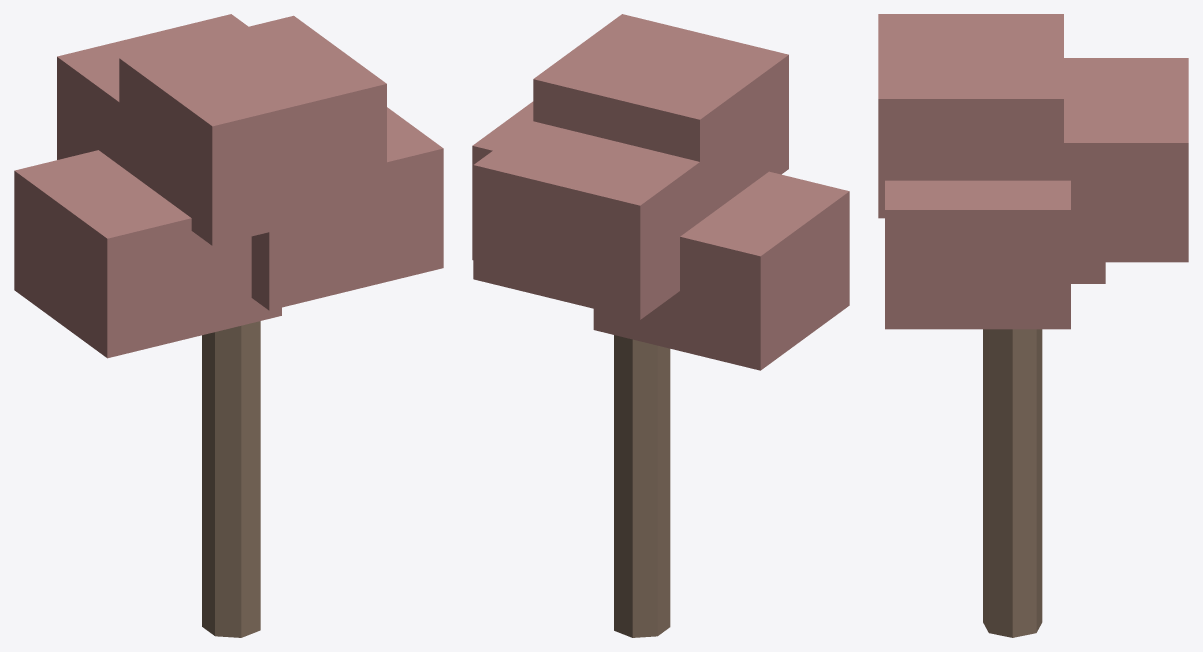
The model's file is arvore_folhas_vermelhas.glb.
3 renders of one model, left to right at view 1: azimuth 30°, elevation 25°; view 2: azimuth 150°, elevation 25°; view 3: azimuth 270°, elevation 25°, orthographic. The views are drawn at different scales.
Parts seen in each view (by area): view 1: part_004, part_001, part_002, part_000, part_003; view 2: part_003, part_004, part_001, part_000, part_002; view 3: part_004, part_002, part_003, part_000, part_001.
Boxes of the visible parts, <box> form: part_004: <box>119,15,386,245</box>; part_001: <box>14,150,281,358</box>; part_002: <box>251,107,443,310</box>; part_000: <box>202,321,260,637</box>; part_003: <box>57,14,248,187</box>; part_003: <box>473,121,729,319</box>; part_004: <box>533,14,788,221</box>; part_001: <box>593,171,849,370</box>; part_000: <box>614,335,670,637</box>; part_002: <box>472,101,533,259</box>; part_004: <box>878,14,1063,218</box>; part_002: <box>885,180,1070,329</box>; part_003: <box>1003,58,1188,262</box>; part_000: <box>983,329,1042,637</box>; part_001: <box>1071,262,1105,283</box>.
Bounding box in the file's own units: 2.65 × 4.53 × 2.24.
